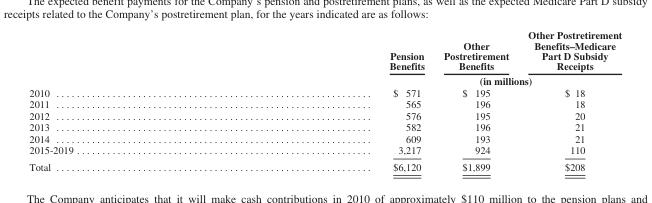table: (28, 28, 621, 172)
table column: (230, 28, 433, 172), (28, 28, 230, 172), (517, 28, 621, 172), (433, 28, 517, 172)
table column header: (28, 28, 621, 86)
table row: (28, 28, 621, 72), (28, 72, 621, 86), (28, 144, 621, 158), (28, 158, 621, 172), (28, 86, 621, 98), (28, 109, 621, 121), (28, 132, 621, 144), (28, 98, 621, 109), (28, 121, 621, 132)
table spanning cell: (230, 72, 621, 86)
